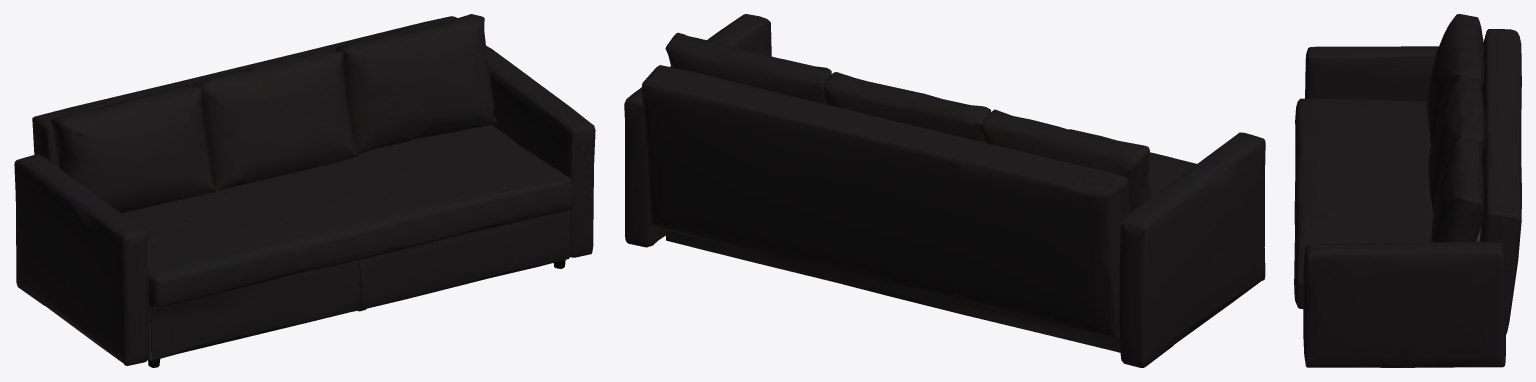
The model's file is 10 - FRIHETEN - 三人座沙發床，Bomstad 黑色 IKEA 線上購物.glb.
3 views of the same model, side by side, from view 1: azimuth 30°, elevation 25°; view 2: azimuth 150°, elevation 25°; view 3: azimuth 270°, elevation 25° (orthographic). The views are drawn at different scales.
Visible parts, largest first — view 1: ProcessedMeshNode; view 2: ProcessedMeshNode; view 3: ProcessedMeshNode.
Boxes of the visible parts, <box> form: ProcessedMeshNode: <box>14,14,595,367</box>; ProcessedMeshNode: <box>624,14,1265,367</box>; ProcessedMeshNode: <box>1294,14,1521,367</box>.
Size of the model in its own units: 2.28 by 0.8607 by 1.05.
1 material, 1 textured.
